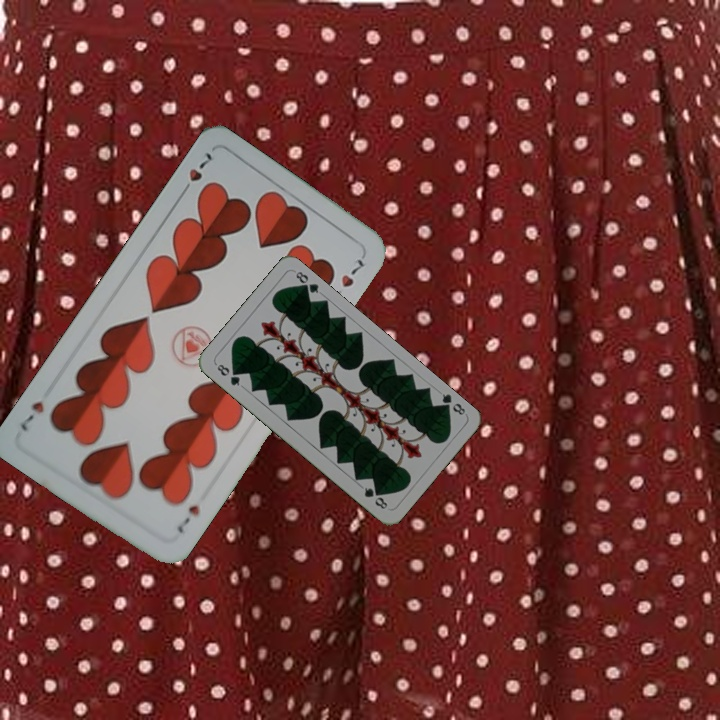G8: (436, 389, 468, 418), (212, 360, 243, 389)
H7: (176, 148, 215, 199), (172, 501, 203, 536)
